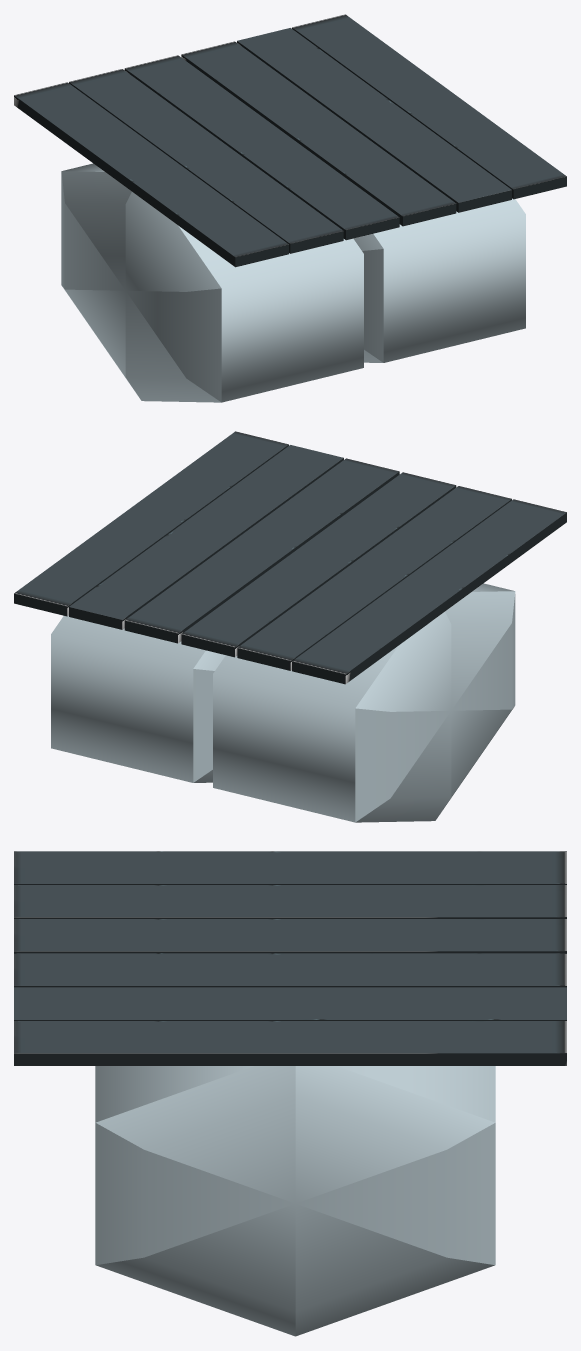
The model's file is New Good Bridge 2.fbx.
3 views of the same model, one above another, from view 1: azimuth 30°, elevation 25°; view 2: azimuth 150°, elevation 25°; view 3: azimuth 270°, elevation 25° (orthographic). The views are drawn at different scales.
Parts seen in each view (by area): view 1: pCylinder2, pCylinder1, pCube1, pCube4, pCube3, pCube5, pCube6, pCube2; view 2: pCylinder2, pCylinder1, pCube1, pCube4, pCube3, pCube5, pCube6, pCube2; view 3: pCylinder1, pCube6, pCube3, pCube4, pCube1, pCube2, pCube5.
Part boxes in pixels (x1,y1,x2,y2): pCylinder2: [61, 163, 363, 402]; pCylinder1: [354, 198, 525, 362]; pCube1: [14, 82, 288, 267]; pCube4: [181, 41, 456, 226]; pCube3: [124, 55, 399, 240]; pCube5: [237, 28, 511, 212]; pCube6: [292, 14, 566, 199]; pCube2: [69, 69, 343, 253]; pCylinder2: [213, 583, 515, 822]; pCylinder1: [51, 615, 225, 782]; pCube1: [292, 499, 566, 684]; pCube4: [124, 458, 399, 643]; pCube3: [181, 472, 456, 657]; pCube5: [69, 445, 343, 629]; pCube6: [14, 431, 288, 616]; pCube2: [237, 486, 511, 670]; pCylinder1: [95, 1066, 495, 1336]; pCube6: [14, 1021, 566, 1065]; pCube3: [14, 919, 566, 953]; pCube4: [14, 953, 566, 987]; pCube1: [14, 851, 566, 884]; pCube2: [14, 885, 566, 918]; pCube5: [14, 987, 566, 1020].
Size of the model in its own units: 5.99 by 3.9 by 6.77.
